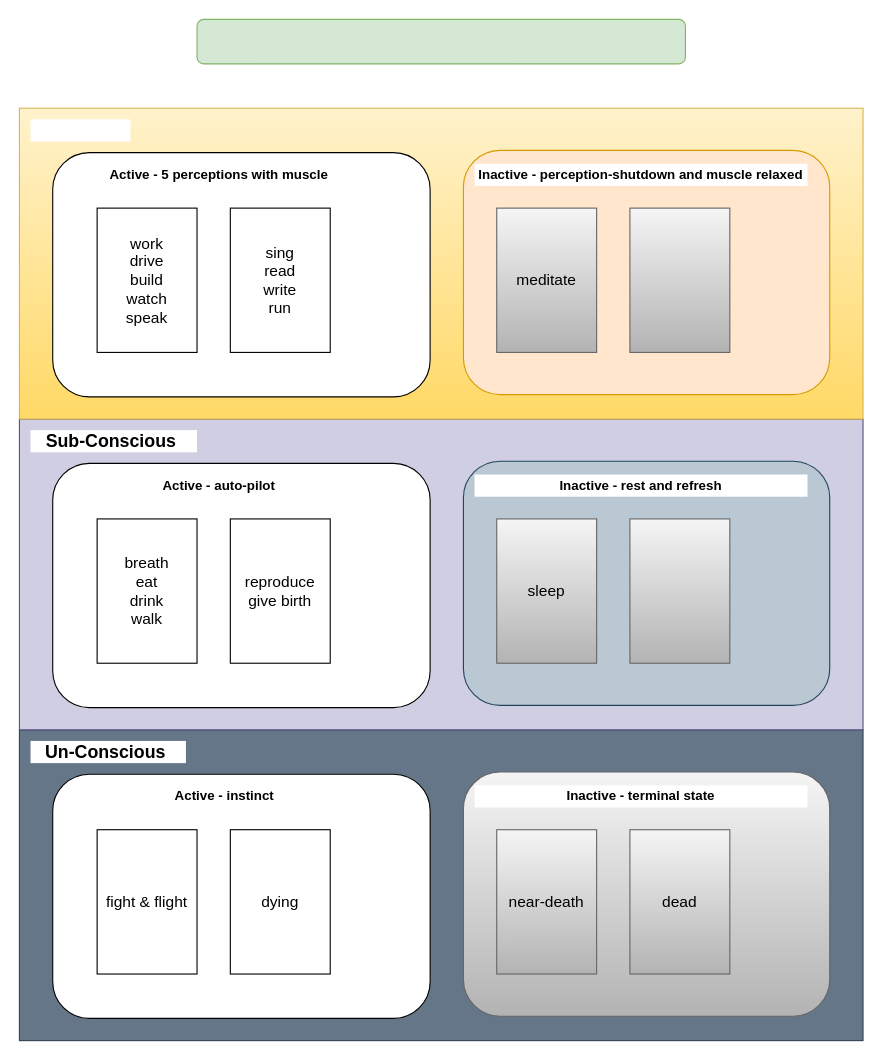
Image size: 882x1060. Some labels were removed from this diagram. Here are the shapes that lost their labels. From the top down, the centre of each, then its label:
the point at 440,41: Human mental and muscle states (3x2)
the point at 80,130: Conscious
